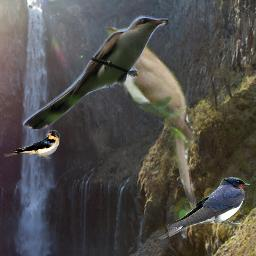Cuckoo: (99, 22, 200, 211), (23, 15, 168, 129)
Swallow: (157, 177, 250, 242), (4, 130, 60, 159)
